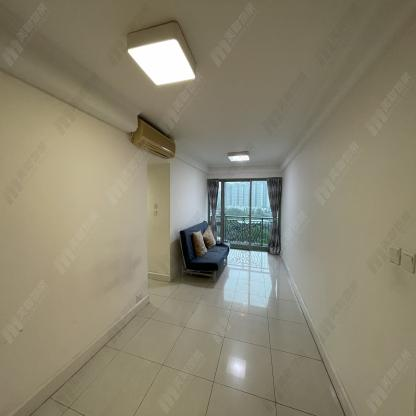AC: (131, 117, 176, 160)
Sofa: (178, 221, 231, 285)
